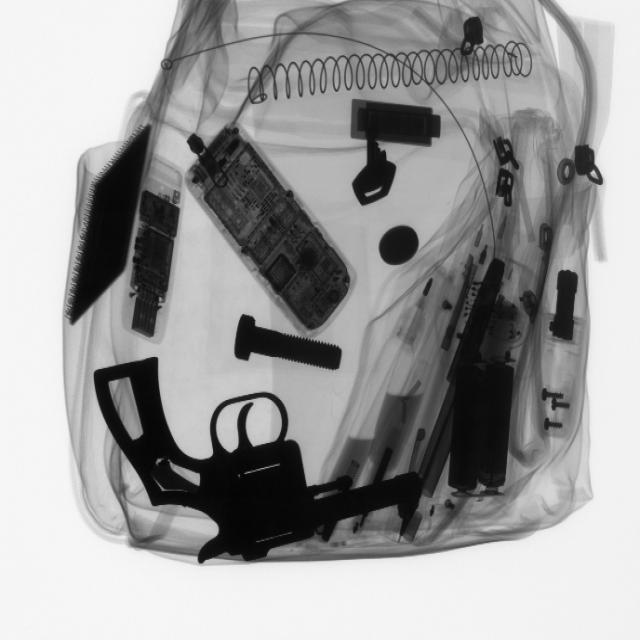GUN: (86, 348, 402, 567)
SCREW: (534, 379, 578, 448)
